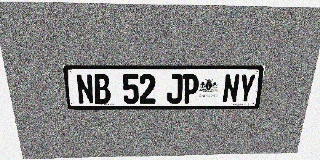2: (139, 74, 155, 104)
5: (122, 74, 139, 104)
B: (93, 74, 111, 104)
J: (166, 74, 183, 103)
N: (75, 74, 95, 104), (222, 74, 240, 103)
P: (182, 74, 199, 103)
Y: (237, 74, 256, 103)
